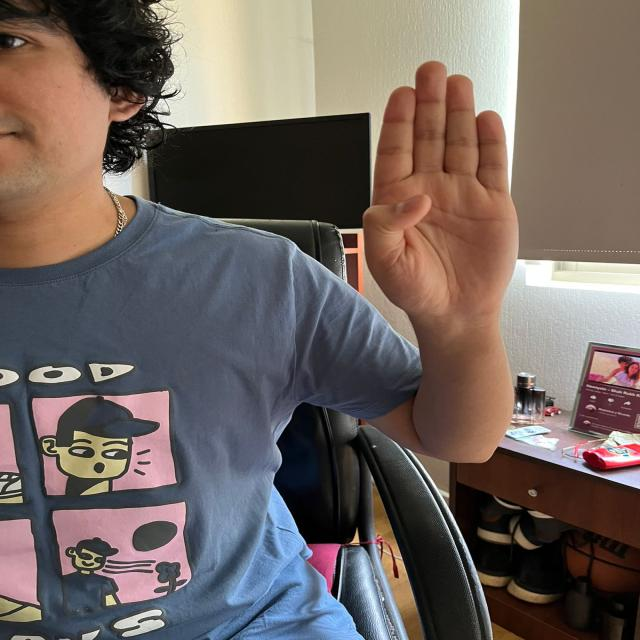B: (347, 53, 528, 312)
